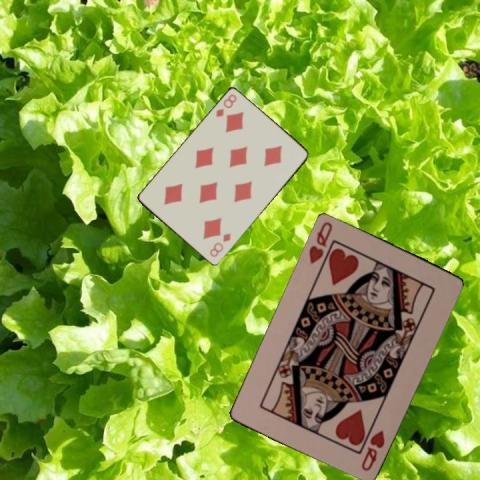8d: (206, 230, 232, 259), (213, 92, 238, 120)
Qh: (306, 218, 334, 265), (358, 427, 386, 472)
